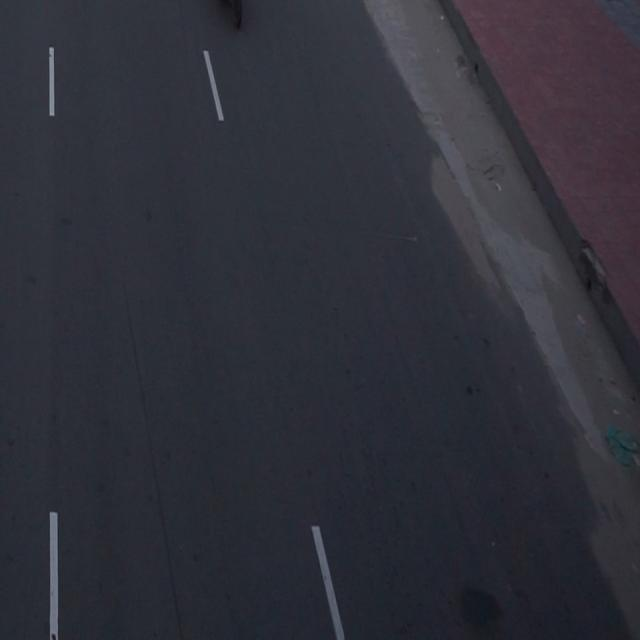motorbike: (194, 0, 271, 37)
